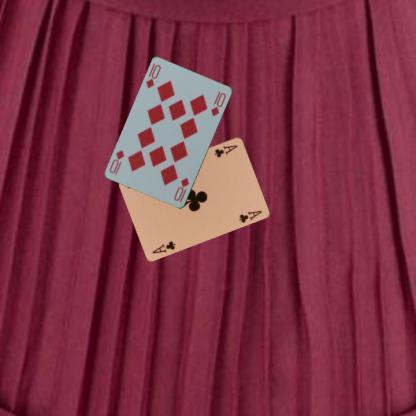10d: (172, 175, 190, 205), (144, 61, 162, 90)
Ac: (150, 238, 176, 255), (212, 142, 239, 158)
